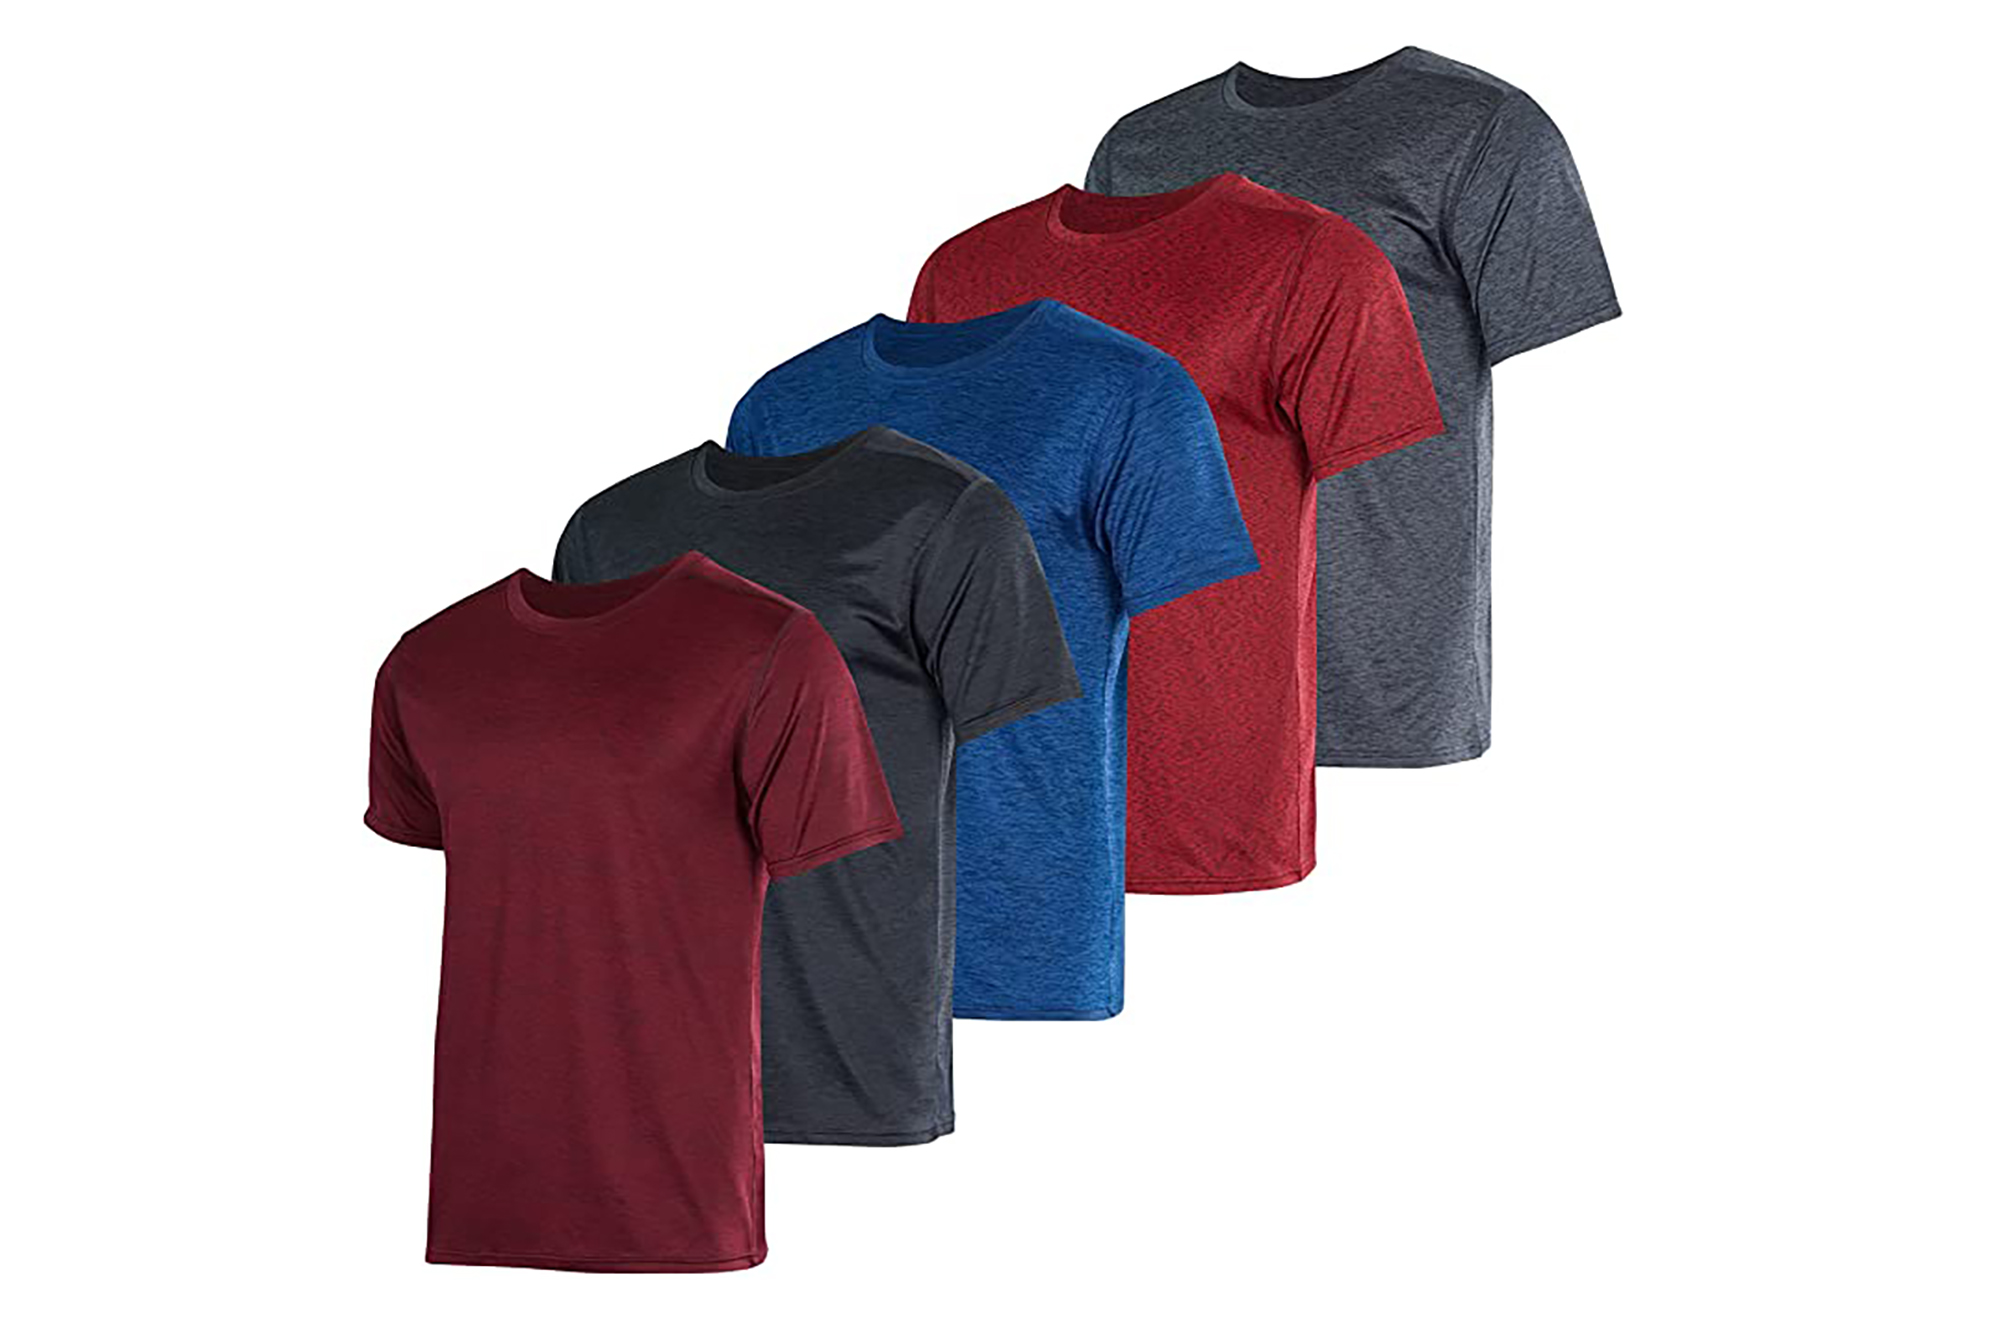round-necked tshirt: (1081, 51, 1593, 765), (726, 311, 1228, 1035), (364, 579, 871, 1273), (564, 451, 1017, 1166), (910, 187, 1341, 885)
